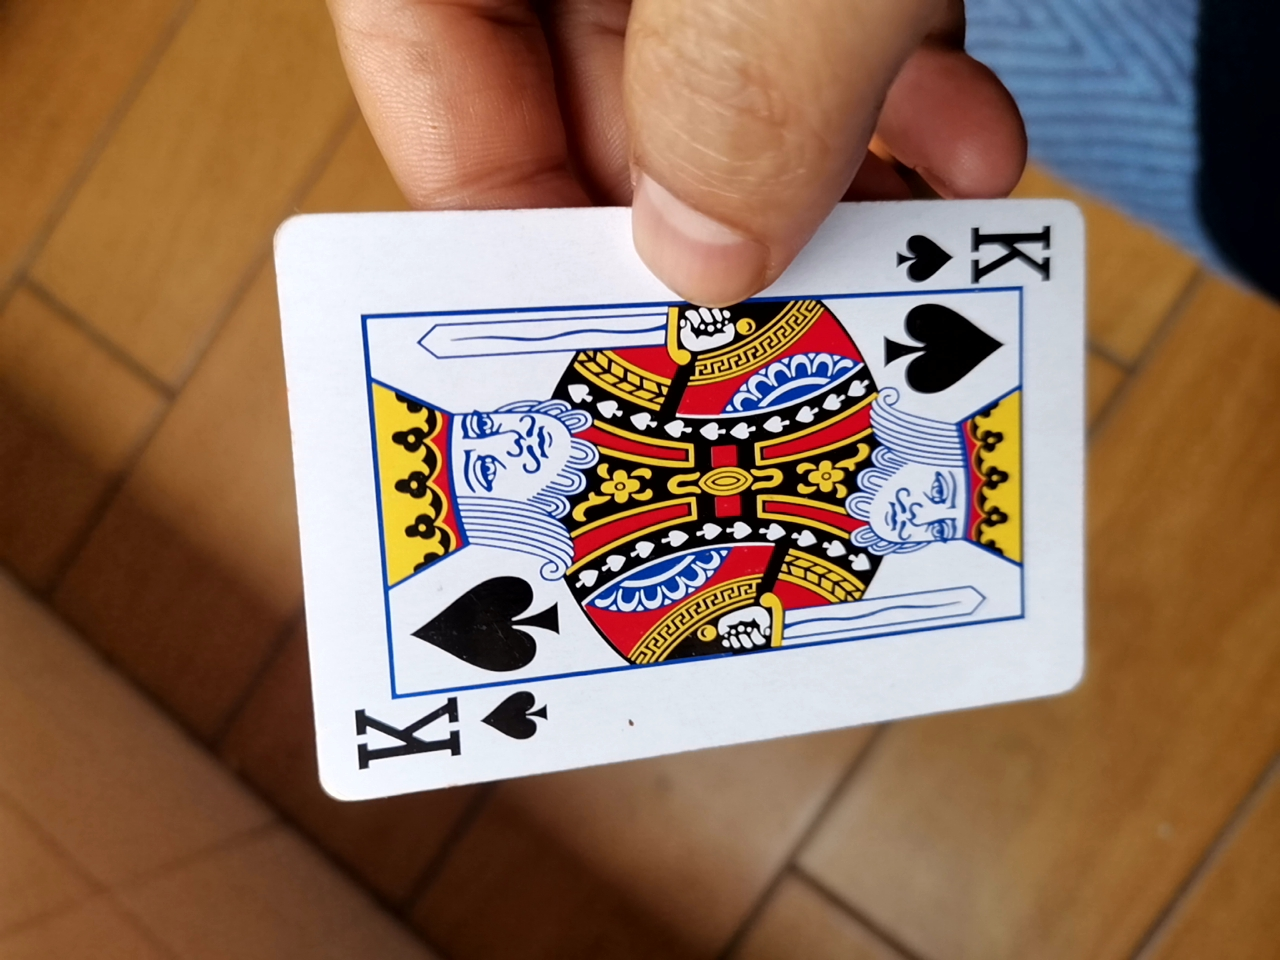ht k: (259, 190, 1103, 823)
